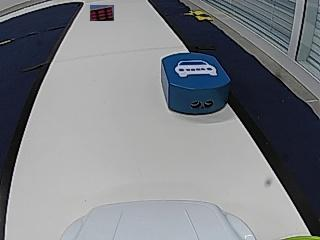safety: (174, 59, 218, 77)
